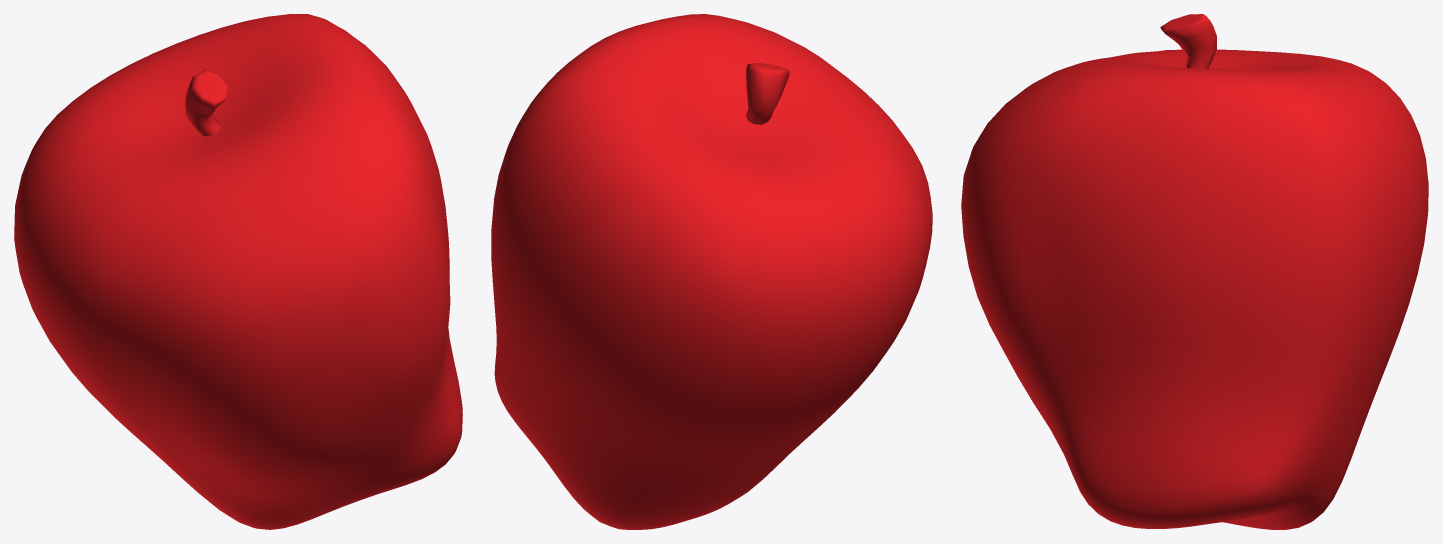
Rendered from apple.fbx.
3 renders of one model, left to right at view 1: azimuth 30°, elevation 25°; view 2: azimuth 150°, elevation 25°; view 3: azimuth 270°, elevation 25°, orthographic. The views are drawn at different scales.
Parts seen in each view (by area): view 1: apple; view 2: apple; view 3: apple.
Part boxes in pixels (left/top/right/bottom): apple: left=14, top=14, right=462, bottom=529; apple: left=491, top=14, right=932, bottom=529; apple: left=961, top=14, right=1428, bottom=529.
Size of the model in its own units: 114 by 129 by 116.
